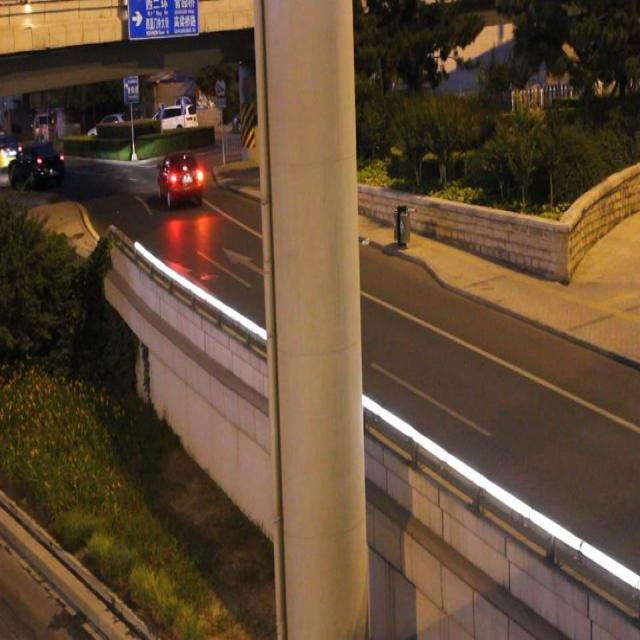car: (156, 151, 204, 206)
